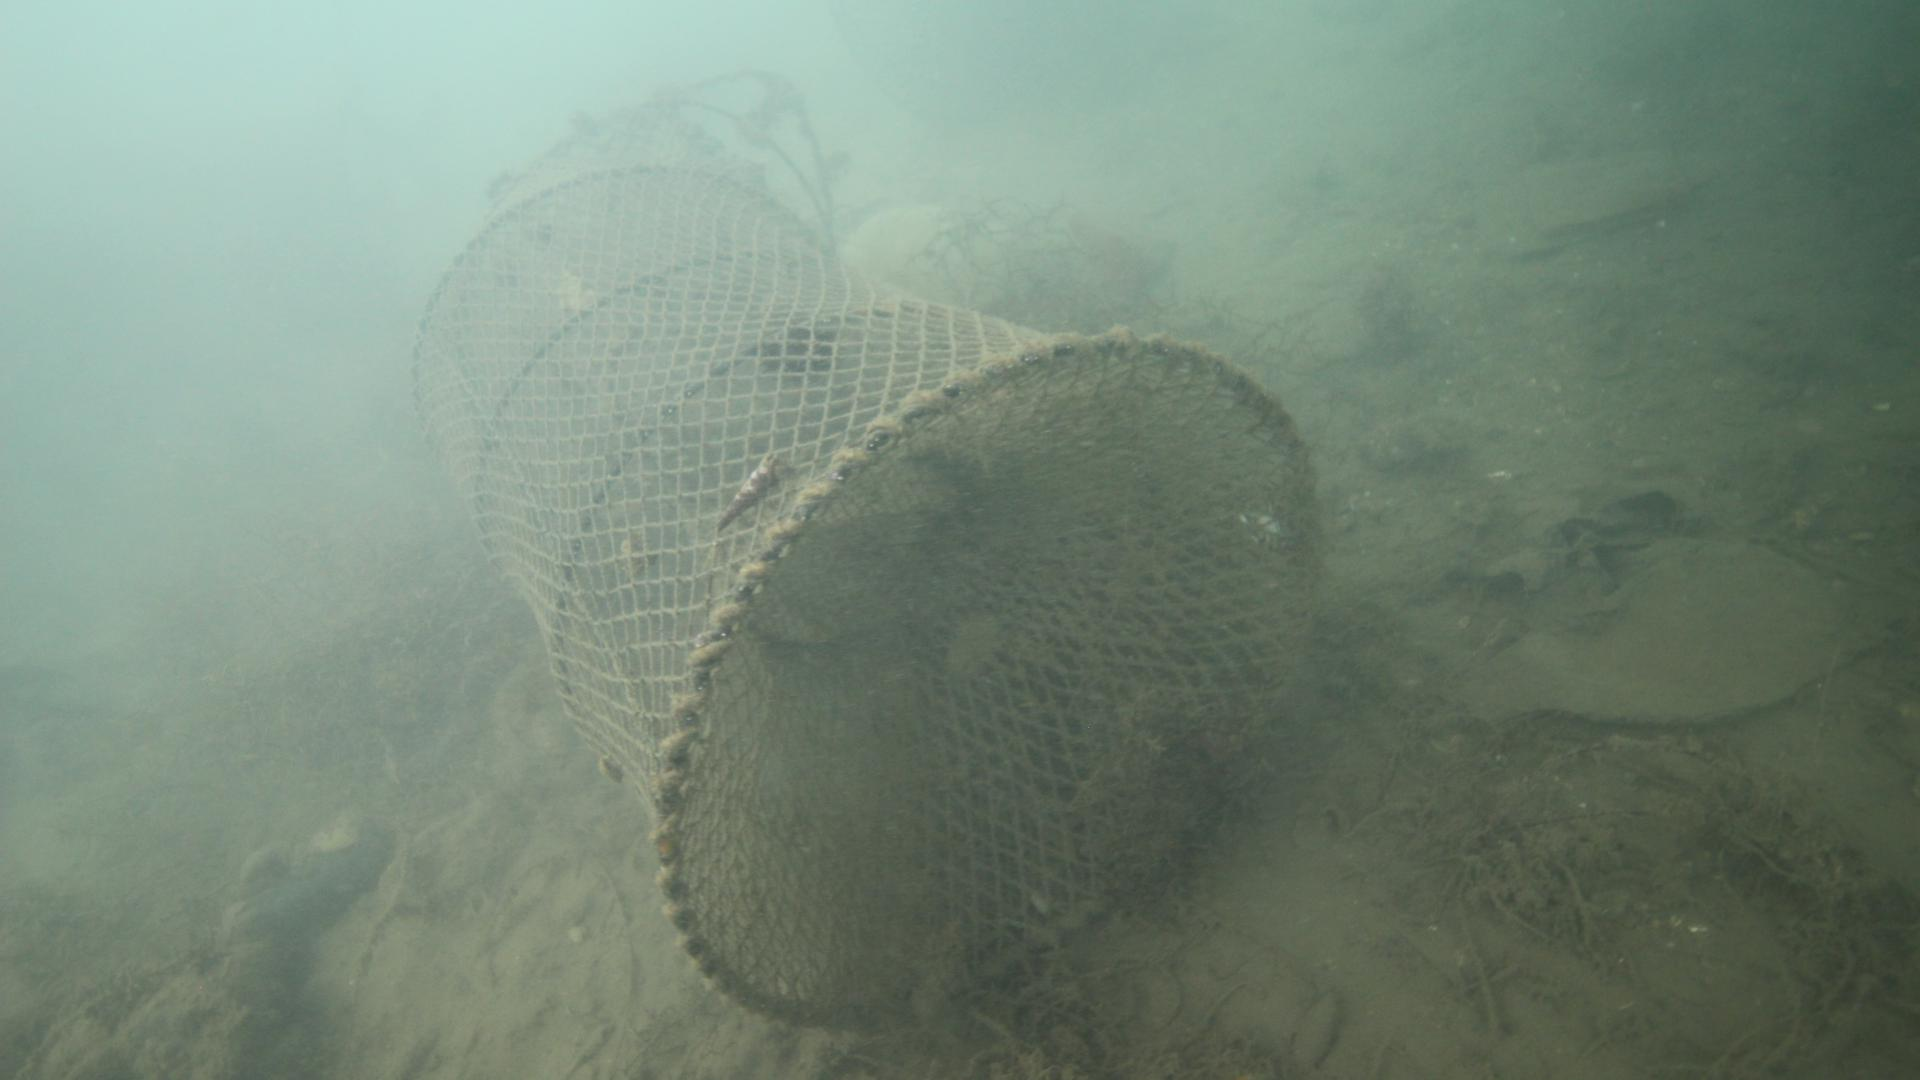spring fish trap: (406, 69, 1321, 1026)
